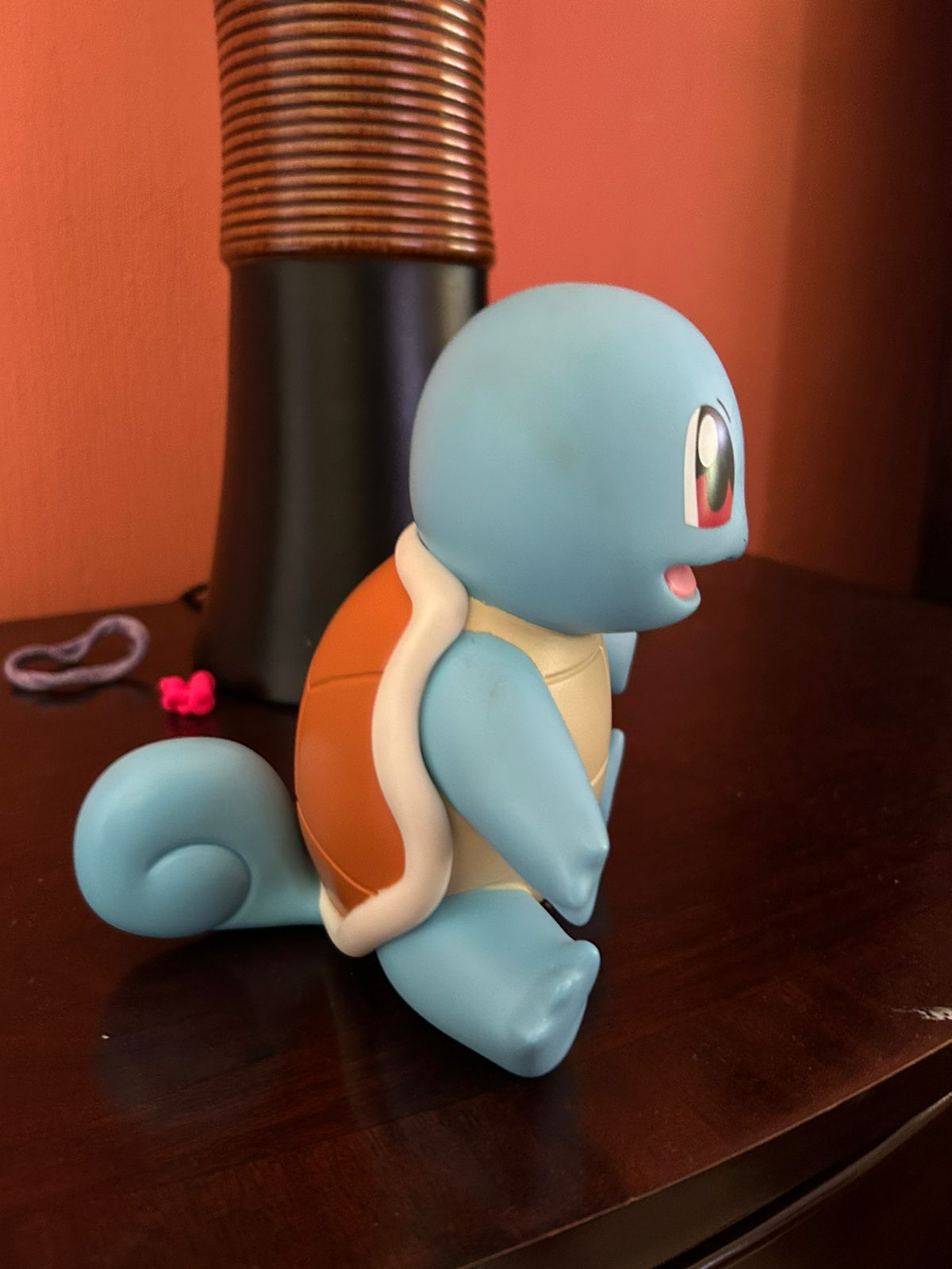Squirtle: (75, 286, 746, 1074)
